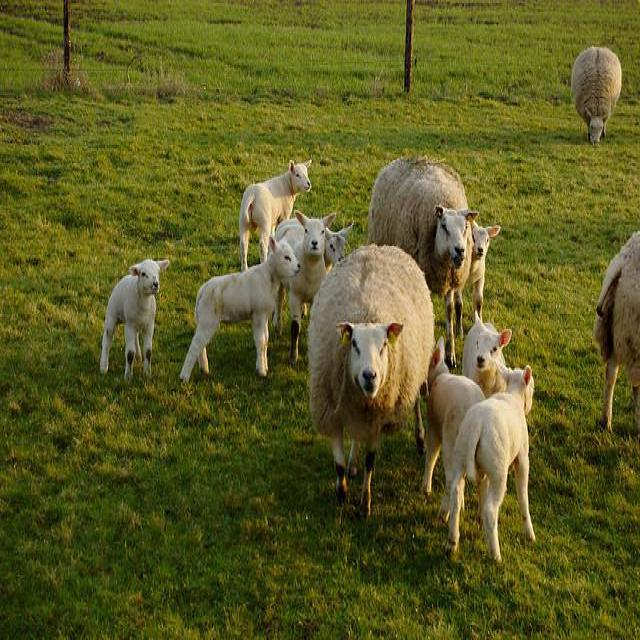Sheep: (309, 243, 436, 524), (365, 154, 480, 370), (181, 237, 304, 386), (448, 362, 537, 563), (421, 337, 483, 528), (275, 210, 338, 362), (594, 230, 639, 440), (101, 260, 170, 382), (239, 159, 312, 273), (275, 218, 355, 318), (571, 47, 622, 146), (463, 311, 514, 400), (467, 220, 503, 328)
